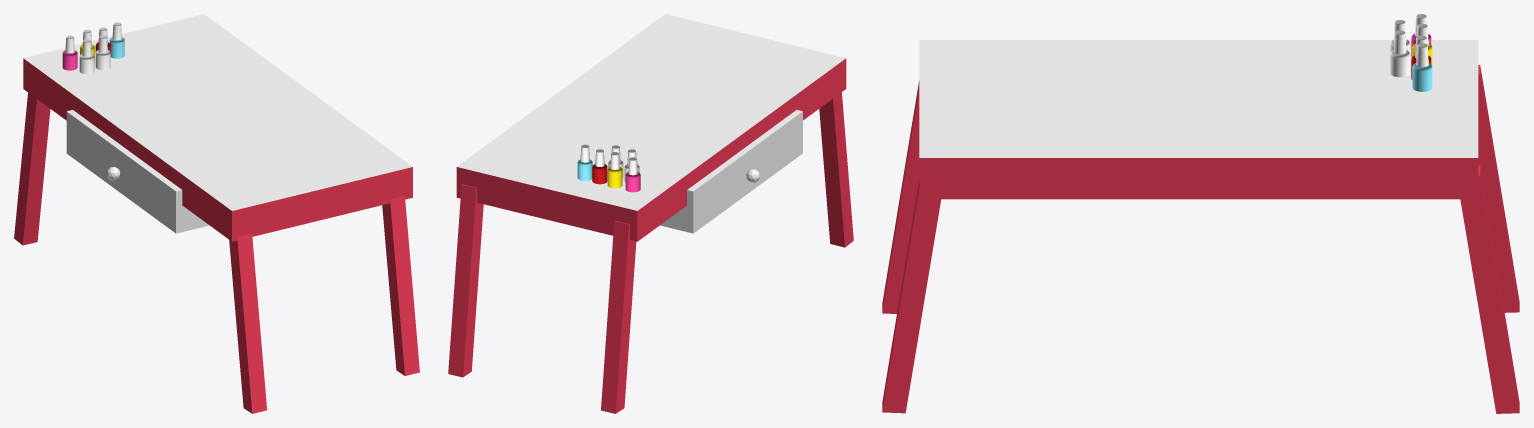
The model's file is p_masa.obj.
3 renders of one model, left to right at view 1: azimuth 30°, elevation 25°; view 2: azimuth 150°, elevation 25°; view 3: azimuth 270°, elevation 25°, orthographic. The views are drawn at different scales.
Visible parts, largest first — view 1: Cube.125_m_white, Cube.125_m_koyupembe, Icosphere.007_m_beyaz, Cube.120_m_koyupembe, Cube.122_m_koyupembe, Cube.124_m_koyupembe, yellow.030_m_beyaz; view 2: Cube.125_m_white, Cube.125_m_koyupembe, Icosphere.007_m_beyaz, Cube.123_m_koyupembe, Cube.124_m_koyupembe, Cube.120_m_koyupembe, yellow.030_m_beyaz; view 3: Cube.125_m_white, Cube.125_m_koyupembe, Cube.123_m_koyupembe, Cube.122_m_koyupembe, Cube.124_m_koyupembe, Cube.120_m_koyupembe, yellow.030_m_beyaz.
Boxes of the visible parts, x1=… form: Cube.125_m_white: x1=23, y1=14, x2=412, y2=210; Cube.125_m_koyupembe: x1=23, y1=58, x2=412, y2=241; Icosphere.007_m_beyaz: x1=66, y1=110, x2=209, y2=233; Cube.120_m_koyupembe: x1=229, y1=233, x2=266, y2=413; Cube.122_m_koyupembe: x1=382, y1=195, x2=419, y2=375; Cube.124_m_koyupembe: x1=14, y1=92, x2=50, y2=245; yellow.030_m_beyaz: x1=65, y1=22, x2=121, y2=70; Cube.125_m_white: x1=457, y1=14, x2=845, y2=210; Cube.125_m_koyupembe: x1=456, y1=58, x2=846, y2=241; Icosphere.007_m_beyaz: x1=660, y1=110, x2=802, y2=233; Cube.123_m_koyupembe: x1=448, y1=184, x2=483, y2=377; Cube.124_m_koyupembe: x1=601, y1=220, x2=636, y2=413; Cube.120_m_koyupembe: x1=819, y1=92, x2=853, y2=247; yellow.030_m_beyaz: x1=580, y1=144, x2=637, y2=177; Cube.125_m_white: x1=919, y1=40, x2=1478, y2=157; Cube.125_m_koyupembe: x1=919, y1=158, x2=1478, y2=199; Cube.123_m_koyupembe: x1=1460, y1=165, x2=1519, y2=413; Cube.122_m_koyupembe: x1=882, y1=180, x2=941, y2=413; Cube.124_m_koyupembe: x1=1478, y1=65, x2=1519, y2=312; Cube.120_m_koyupembe: x1=882, y1=81, x2=919, y2=313; yellow.030_m_beyaz: x1=1390, y1=14, x2=1428, y2=77.
Size of the model in its own units: 11.03 by 11.97 by 22.81.
